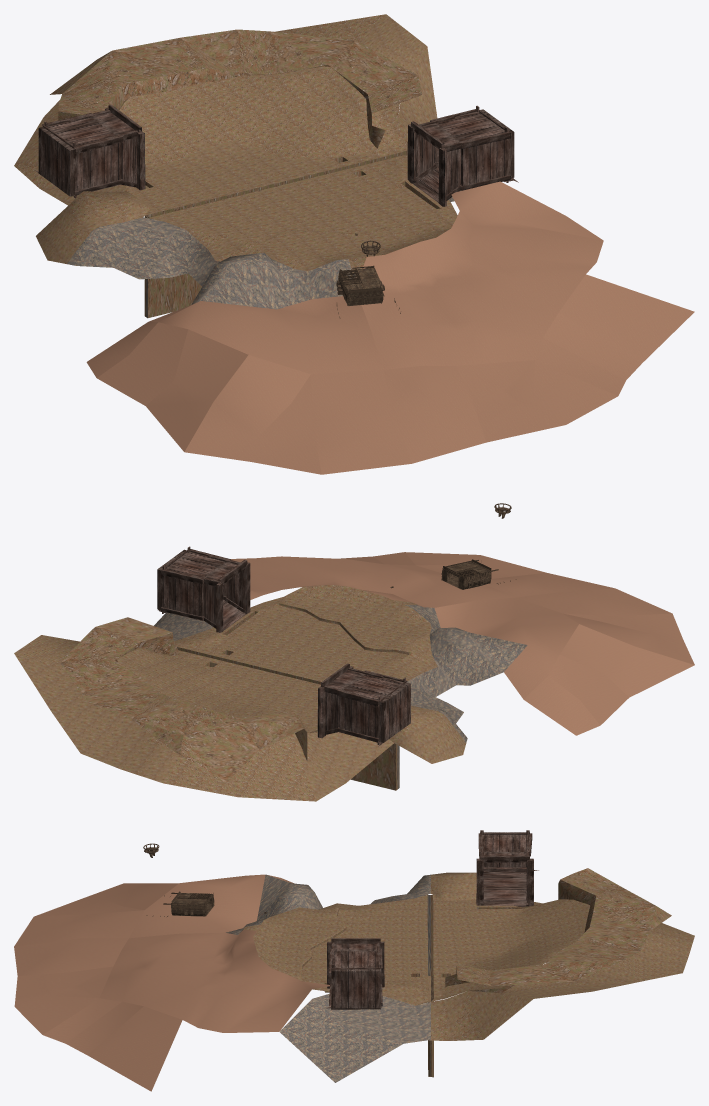
Rendered from Stage_ArenaSample.FBX.
3 views of the same model, one above another, from view 1: azimuth 30°, elevation 25°; view 2: azimuth 150°, elevation 25°; view 3: azimuth 270°, elevation 25° (orthographic). The views are drawn at different scales.
Visible parts, largest first — view 1: ID_0_LOD_1 (Model17[U1N]) (×10); view 2: ID_0_LOD_1 (Model17[U1N]) (×11); view 3: ID_0_LOD_1 (Model17[U1N]) (×11).
Boxes of the visible parts, x1,y1,x2,y2 form: ID_0_LOD_1 (Model17[U1N]) (×10): (14,14,694,474); ID_0_LOD_1 (Model17[U1N]) (×11): (14,503,694,801); ID_0_LOD_1 (Model17[U1N]) (×11): (14,830,694,1091).
Bounding box in the file's own units: 17153 × 5793 × 23738.
